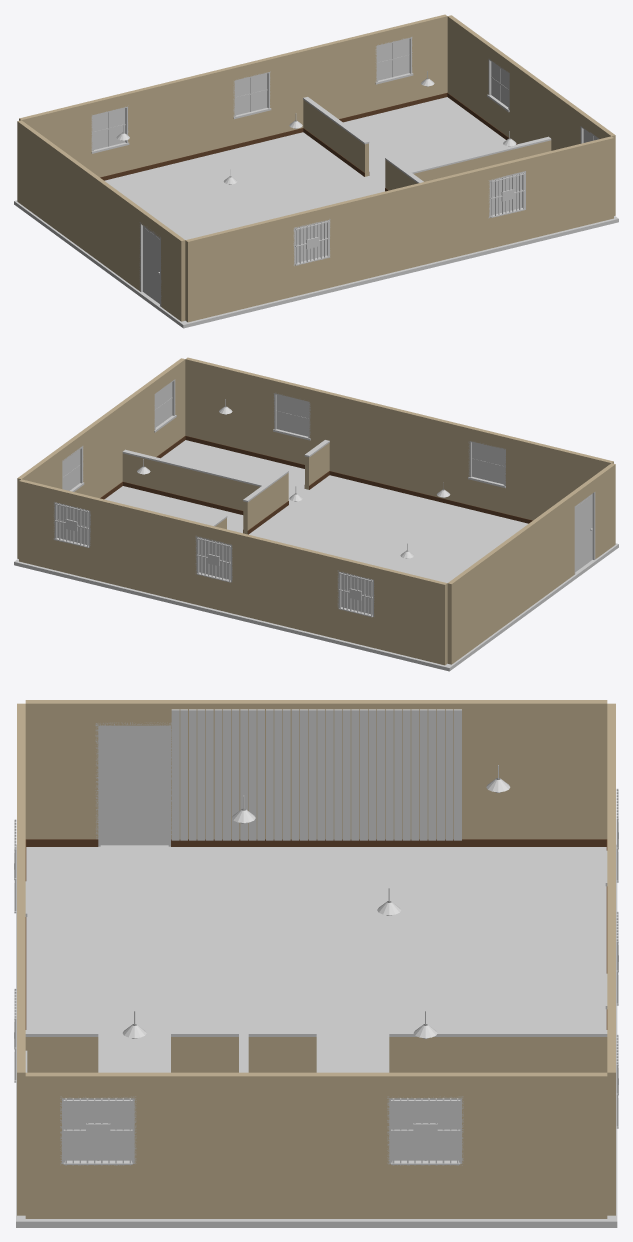
Rendered from room-flat-terrazzo.glb.
3 views of the same model, one above another, from view 1: azimuth 30°, elevation 25°; view 2: azimuth 150°, elevation 25°; view 3: azimuth 270°, elevation 25° (orthographic). The views are drawn at different scales.
Visible parts, largest first — view 1: wall_front, wall_back, floor, wall_left, wall_right, partition, room-flat-terrazzo, glass_wall_back, glass_wall_front, glass_wall_right; view 2: wall_back, wall_front, floor, wall_left, wall_right, partition, room-flat-terrazzo, glass_wall_back, glass_wall_front, glass_wall_right; view 3: floor, wall_right, wall_left, accent_wall, partition, room-flat-terrazzo, glass_wall_right, wall_back, wall_front.
Part boxes in pixels (x1=…): wall_front: x1=185, y1=136, x2=613, y2=322; wall_back: x1=19, y1=14, x2=447, y2=180; floor: x1=104, y1=97, x2=507, y2=239; wall_left: x1=17, y1=120, x2=185, y2=321; wall_right: x1=447, y1=15, x2=615, y2=215; partition: x1=303, y1=97, x2=551, y2=191; room-flat-terrazzo: x1=14, y1=71, x2=618, y2=328; glass_wall_back: x1=94, y1=39, x2=409, y2=149; glass_wall_front: x1=296, y1=175, x2=522, y2=262; glass_wall_right: x1=491, y1=62, x2=597, y2=142; wall_back: x1=19, y1=479, x2=447, y2=665; wall_front: x1=185, y1=357, x2=613, y2=523; floor: x1=104, y1=440, x2=528, y2=582; wall_left: x1=447, y1=463, x2=615, y2=664; wall_right: x1=17, y1=358, x2=185, y2=558; partition: x1=122, y1=440, x2=329, y2=534; room-flat-terrazzo: x1=14, y1=399, x2=618, y2=671; glass_wall_back: x1=57, y1=505, x2=372, y2=614; glass_wall_front: x1=276, y1=395, x2=503, y2=484; glass_wall_right: x1=63, y1=382, x2=172, y2=490; floor: x1=26, y1=846, x2=606, y2=1072; wall_right: x1=25, y1=1072, x2=607, y2=1218; wall_left: x1=25, y1=700, x2=607, y2=846; accent_wall: x1=171, y1=709, x2=461, y2=840; partition: x1=25, y1=1030, x2=607, y2=1072; room-flat-terrazzo: x1=16, y1=765, x2=617, y2=1227; glass_wall_right: x1=65, y1=1102, x2=458, y2=1160; wall_back: x1=605, y1=703, x2=618, y2=1215; wall_front: x1=14, y1=703, x2=27, y2=1215.
Size of the model in its own units: 14.75 by 2.75 by 9.98.
